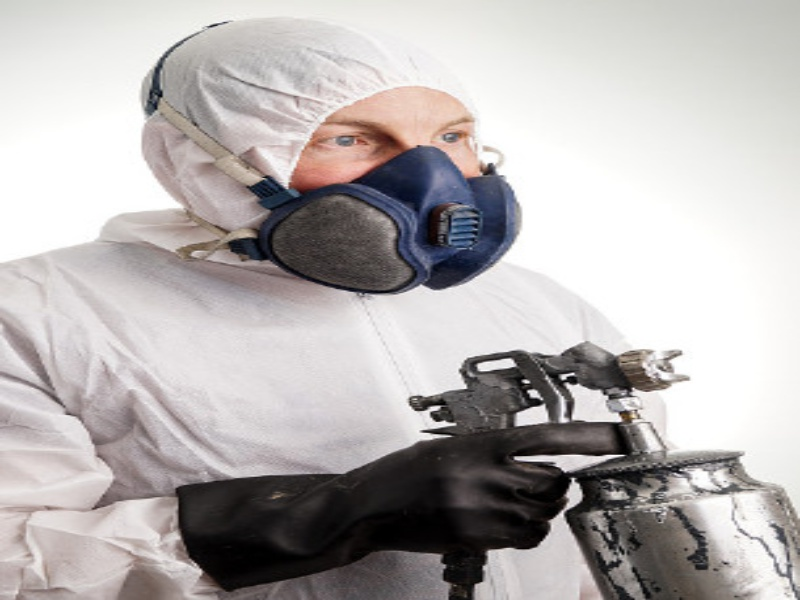mask: (163, 3, 534, 296)
